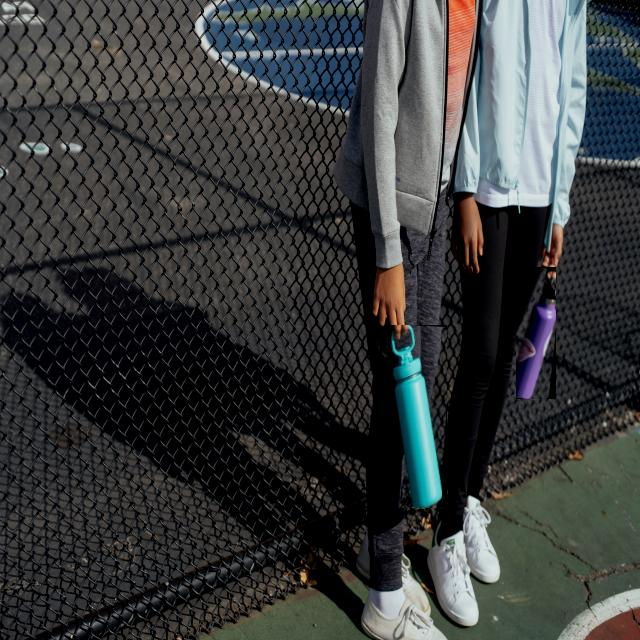Bottle: (388, 326, 445, 507), (516, 267, 555, 399)
